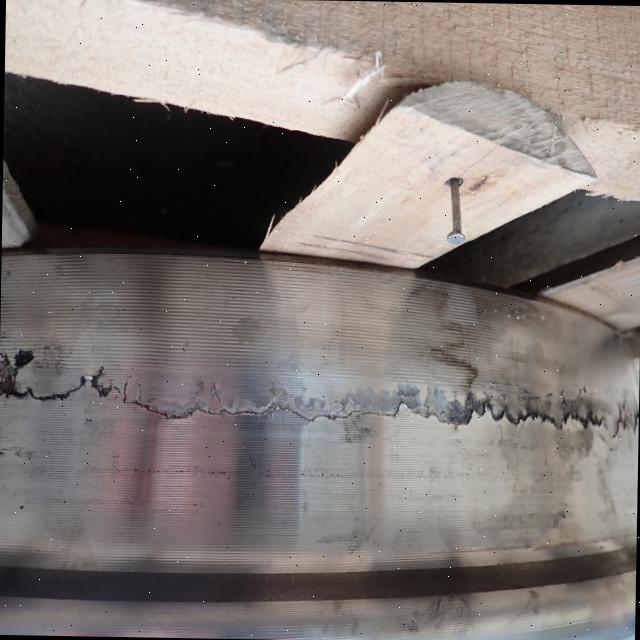Contact_Fatigue_Cracks: (120, 385, 257, 423), (344, 390, 397, 419)
Peeling: (485, 392, 602, 433), (400, 382, 481, 424), (264, 384, 339, 423), (160, 397, 253, 421), (1, 354, 36, 399), (79, 367, 113, 400)
